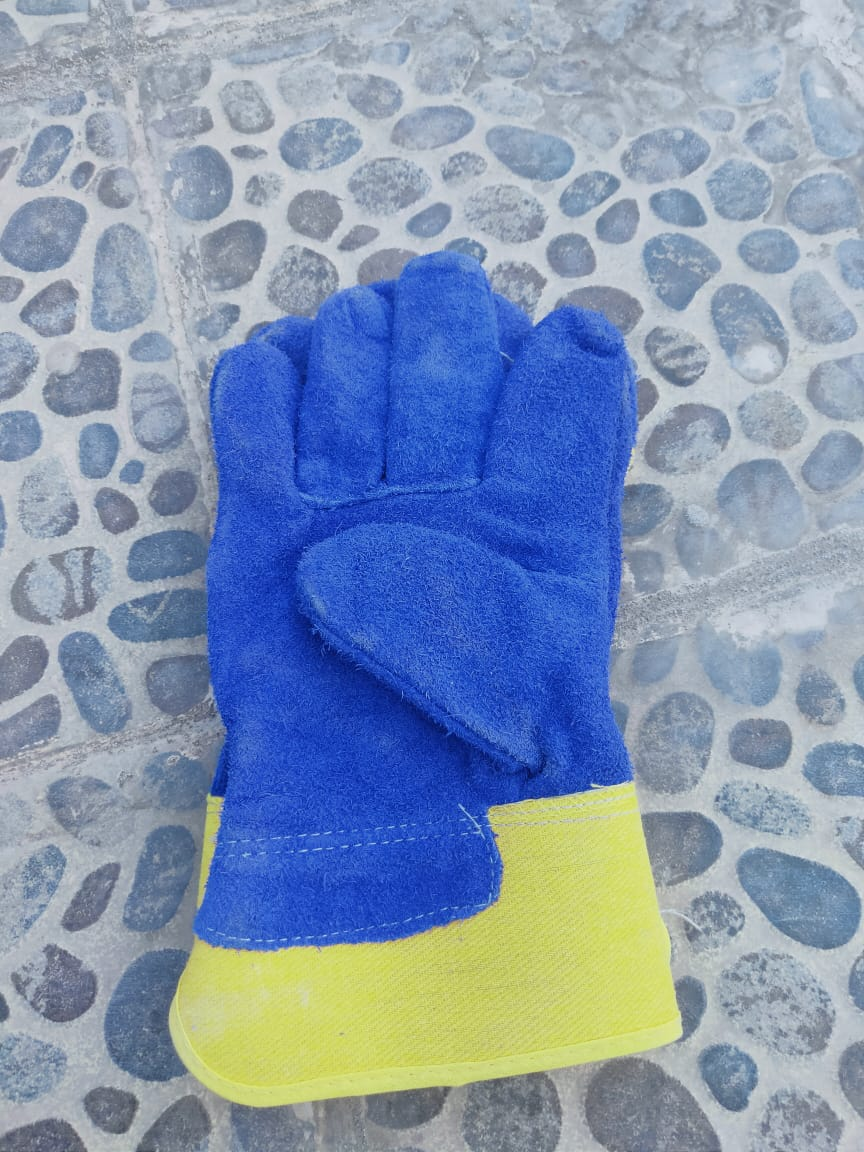SARUNG_TANGAN: (231, 310, 619, 1054)
